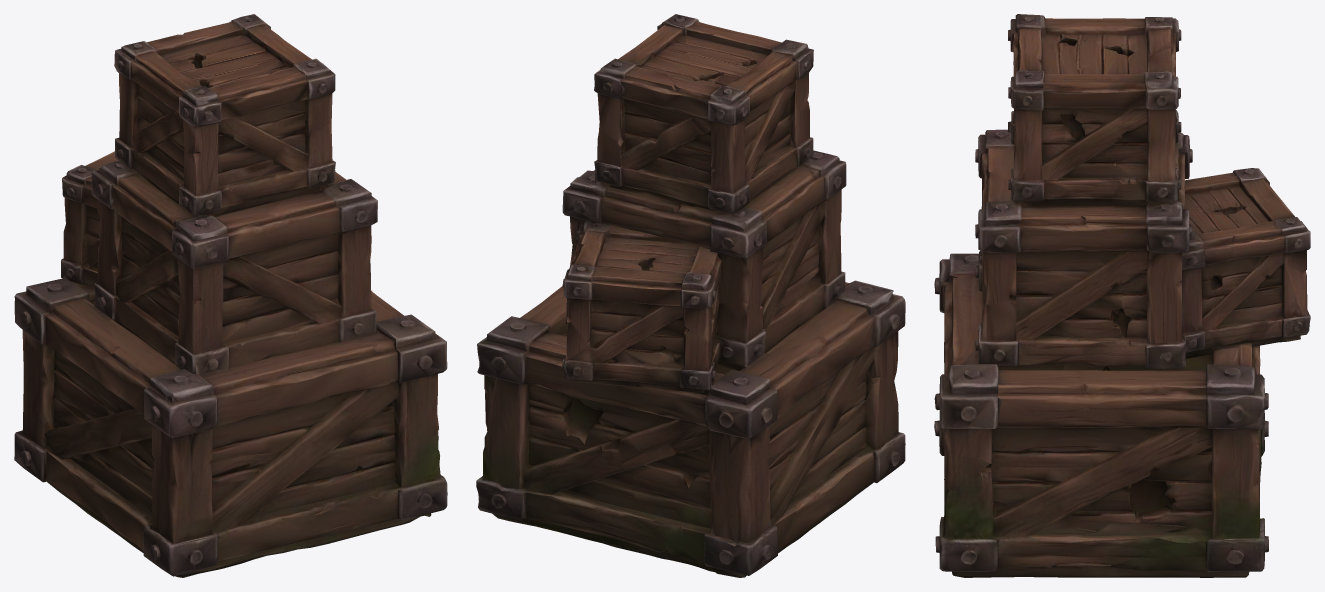
Rendered from mine_crates_stack_b_idle.glb.
The picture shows the model from 3 angles, left to right: view 1: azimuth 30°, elevation 25°; view 2: azimuth 150°, elevation 25°; view 3: azimuth 270°, elevation 25°; orthographic projection. The views are drawn at different scales.
Visible parts, largest first — view 1: tripo_node_f4814c40-07f4-4ae7-a273-4478402a9280; view 2: tripo_node_f4814c40-07f4-4ae7-a273-4478402a9280; view 3: tripo_node_f4814c40-07f4-4ae7-a273-4478402a9280.
Boxes of the visible parts, box(x1,y1,x2,y2) form: tripo_node_f4814c40-07f4-4ae7-a273-4478402a9280: box(14, 14, 447, 577); tripo_node_f4814c40-07f4-4ae7-a273-4478402a9280: box(476, 14, 905, 577); tripo_node_f4814c40-07f4-4ae7-a273-4478402a9280: box(934, 14, 1310, 577).
Size of the model in its own units: 0.9973 by 1.5 by 1.11.
Materials: 1 (1 with a texture image).
